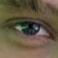eye: (21, 22, 40, 35)
